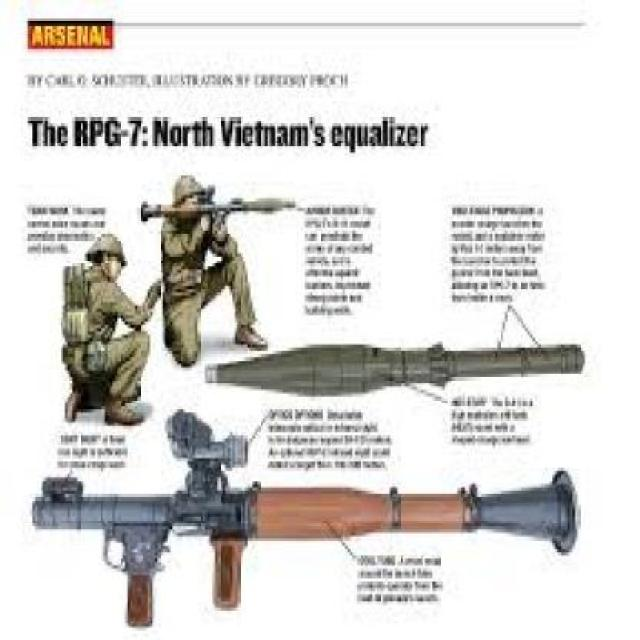weapon: (27, 399, 577, 640), (193, 333, 638, 405)
